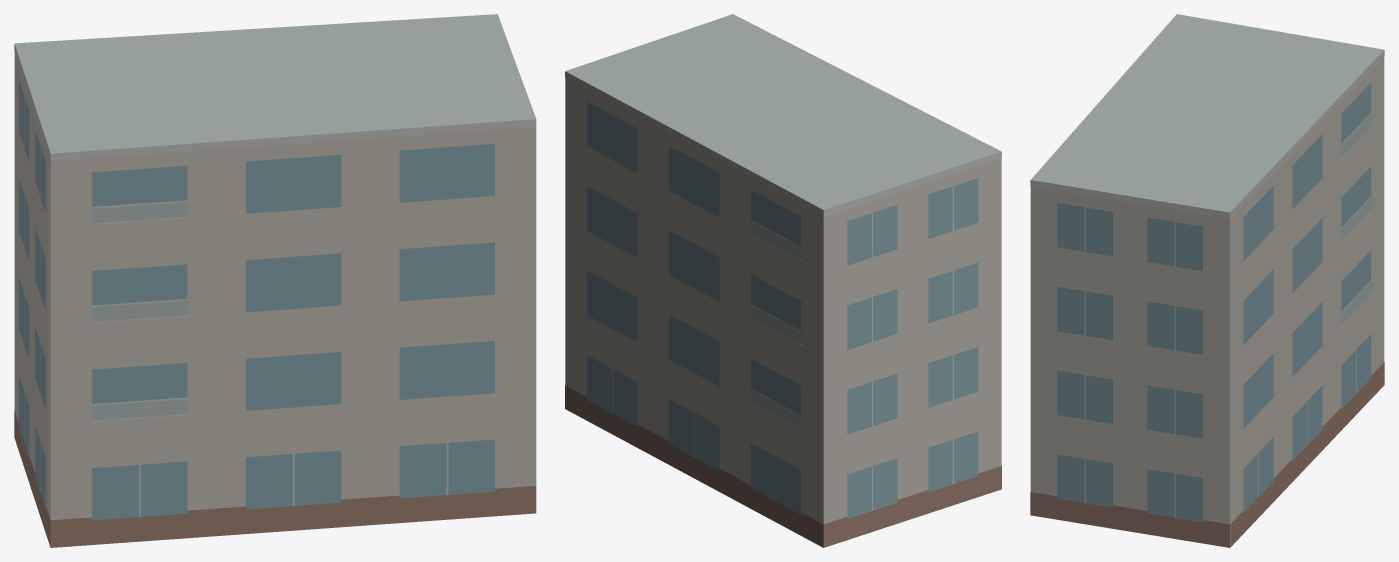
The model's file is survey-upis-32869336.glb.
3 views of the same model, side by side, from view 1: azimuth 30°, elevation 25°; view 2: azimuth 150°, elevation 25°; view 3: azimuth 270°, elevation 25° (orthographic). The views are drawn at different scales.
Visible parts, largest first — view 1: survey-upis-32869336.tmp; view 2: survey-upis-32869336.tmp; view 3: survey-upis-32869336.tmp.
Part boxes in pixels (<box>): survey-upis-32869336.tmp: <box>14,14,536,547</box>; survey-upis-32869336.tmp: <box>565,14,1001,547</box>; survey-upis-32869336.tmp: <box>1030,14,1384,547</box>.
Bounding box in the file's own units: 15.75 × 12.4 × 11.87.
